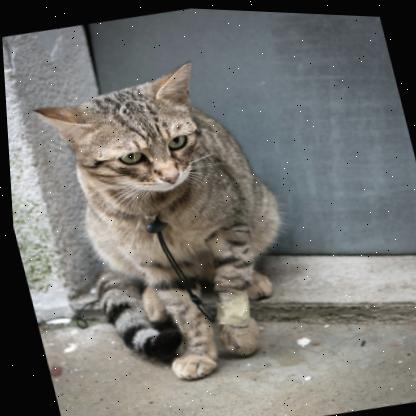cat: (42, 57, 307, 352)
